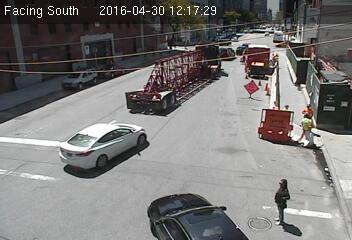neg: (112, 89, 144, 132), (80, 137, 106, 171), (181, 47, 201, 75)
pos: (262, 176, 298, 224), (295, 112, 316, 139), (278, 102, 293, 122), (300, 100, 314, 119)
